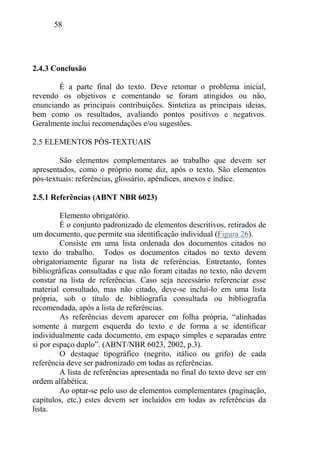Texto: (28, 62, 267, 415)
